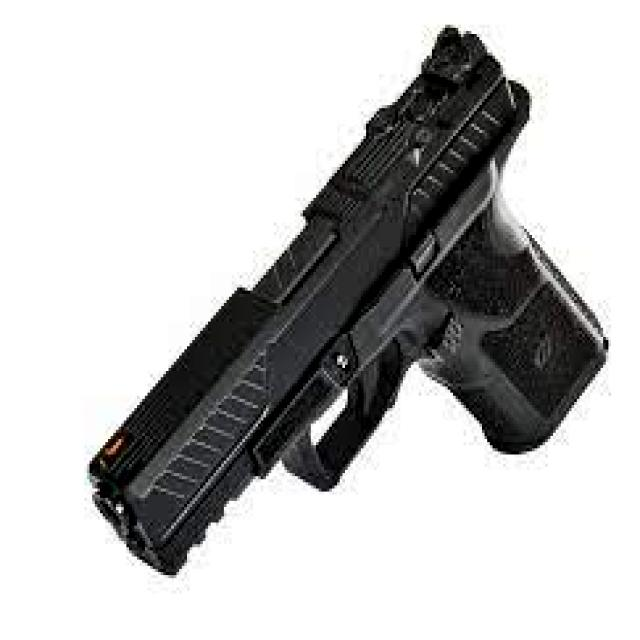semi automatic: (71, 14, 616, 587)
